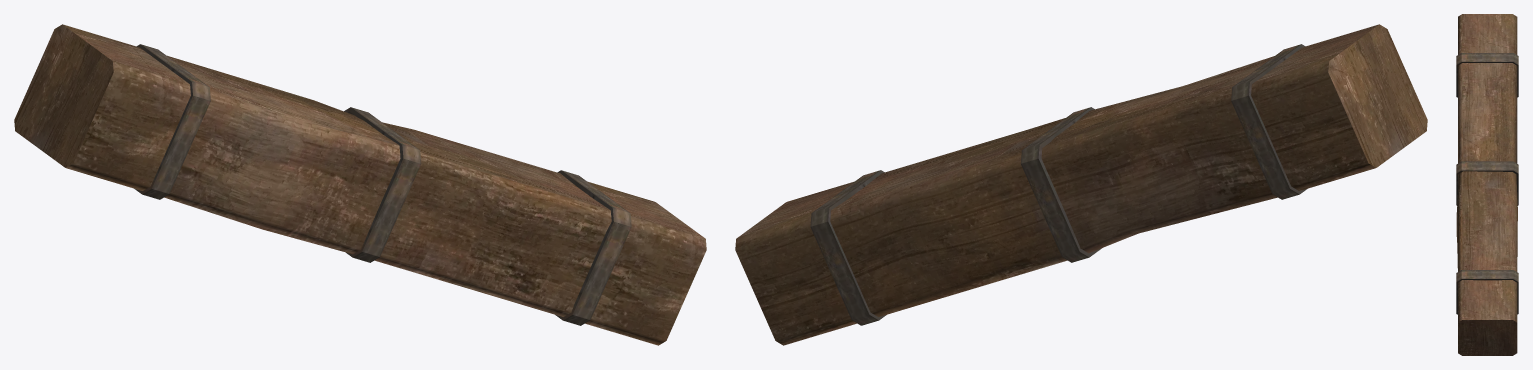
3 renders of one model, left to right at view 1: azimuth 30°, elevation 25°; view 2: azimuth 150°, elevation 25°; view 3: azimuth 270°, elevation 25°, orthographic. The views are drawn at different scales.
Visible parts, largest first — view 1: SM_BB_T3_Extended_Beam_Thick_Large_Shallow_LOD0; view 2: SM_BB_T3_Extended_Beam_Thick_Large_Shallow_LOD0; view 3: SM_BB_T3_Extended_Beam_Thick_Large_Shallow_LOD0.
Boxes of the visible parts, x1,y1,x2,y2 form: SM_BB_T3_Extended_Beam_Thick_Large_Shallow_LOD0: [14, 24, 706, 345]; SM_BB_T3_Extended_Beam_Thick_Large_Shallow_LOD0: [735, 24, 1427, 345]; SM_BB_T3_Extended_Beam_Thick_Large_Shallow_LOD0: [1456, 14, 1518, 355].
Size of the model in its own units: 3.24 by 2.02 by 0.5482.
Materials: 2 (2 with a texture image).
